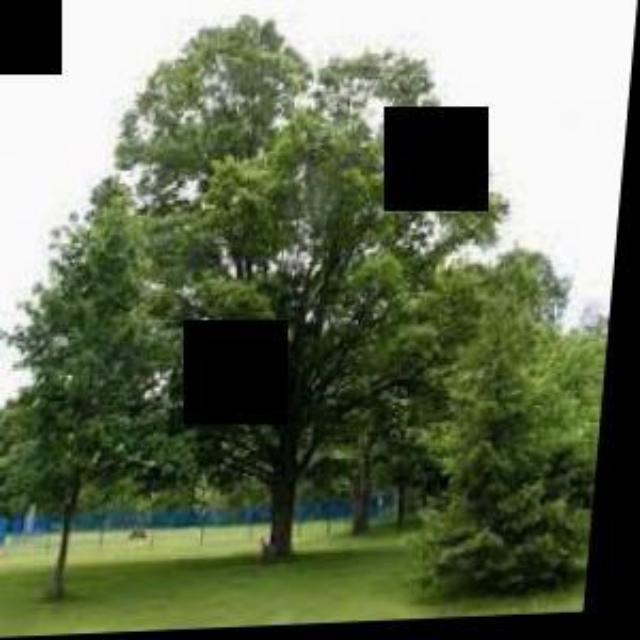tree: (0, 0, 580, 576)
